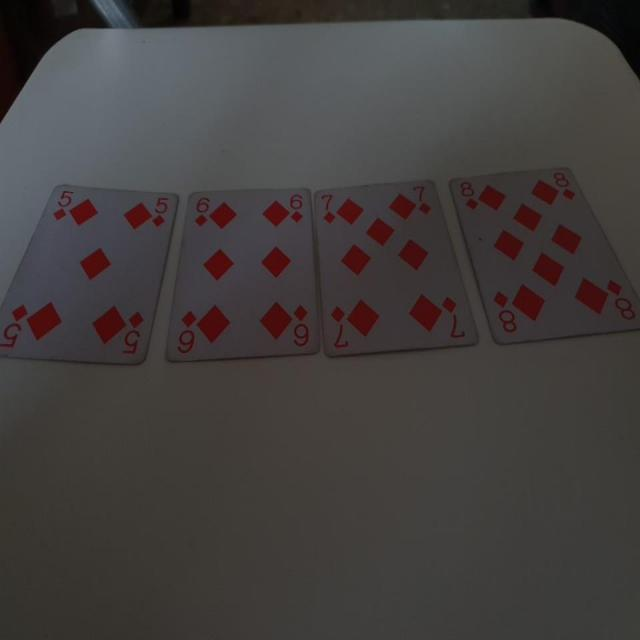5 Diamonds: (1, 177, 185, 372)
6 Diamonds: (164, 183, 318, 362)
7 Diamonds: (311, 180, 480, 358)
8 Diamonds: (447, 163, 637, 350)
